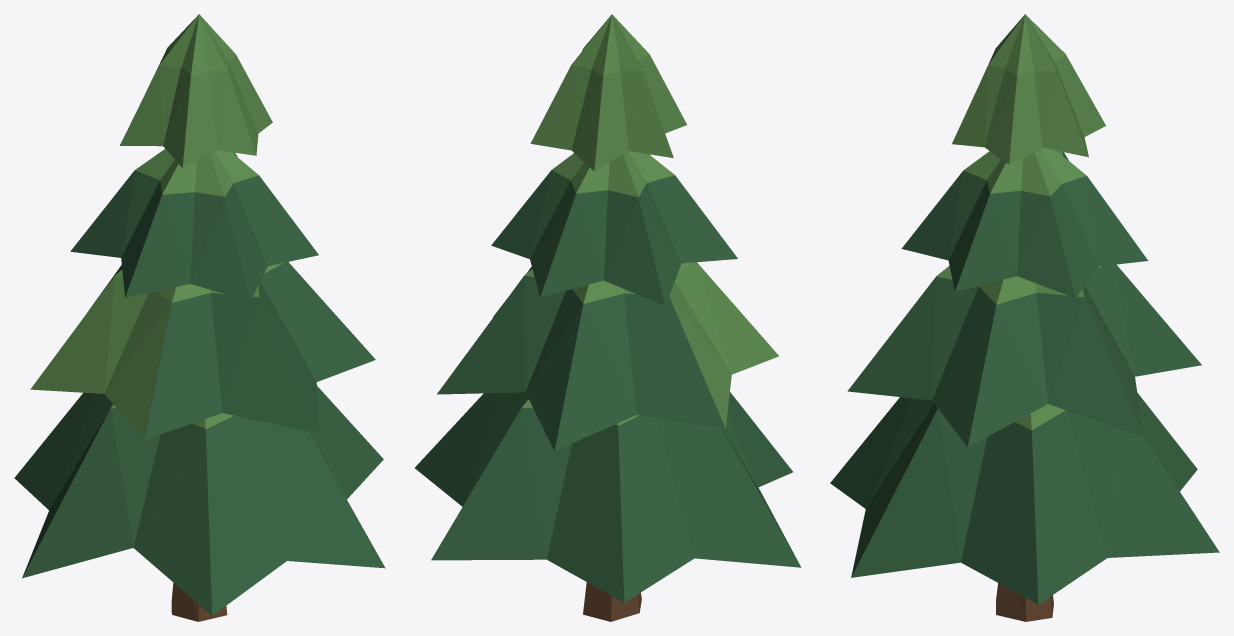
The model's file is SM_Tree_Pine_D.fbx.
3 views of the same model, side by side, from view 1: azimuth 30°, elevation 25°; view 2: azimuth 150°, elevation 25°; view 3: azimuth 270°, elevation 25° (orthographic).
Visible parts, largest first — view 1: SM_Tree_Pine_D; view 2: SM_Tree_Pine_D; view 3: SM_Tree_Pine_D.
Boxes of the visible parts, box(x1,y1,x2,y2) form: SM_Tree_Pine_D: box(14, 14, 385, 621); SM_Tree_Pine_D: box(415, 14, 801, 621); SM_Tree_Pine_D: box(830, 14, 1219, 621).
Bounding box in the file's own units: 1.98 × 3 × 1.78.
